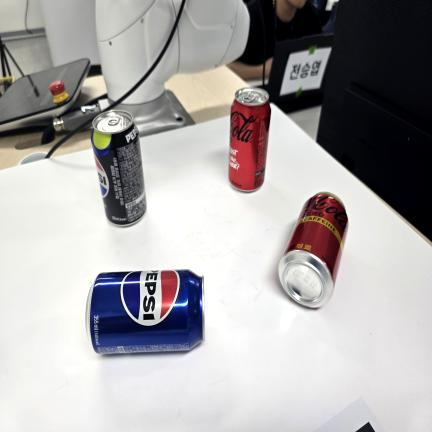can_coke_decaf: (278, 192, 348, 308)
can_coke_zero: (229, 88, 271, 192)
can_pepsi: (86, 269, 204, 353)
can_pepsi_zero: (91, 111, 146, 225)
